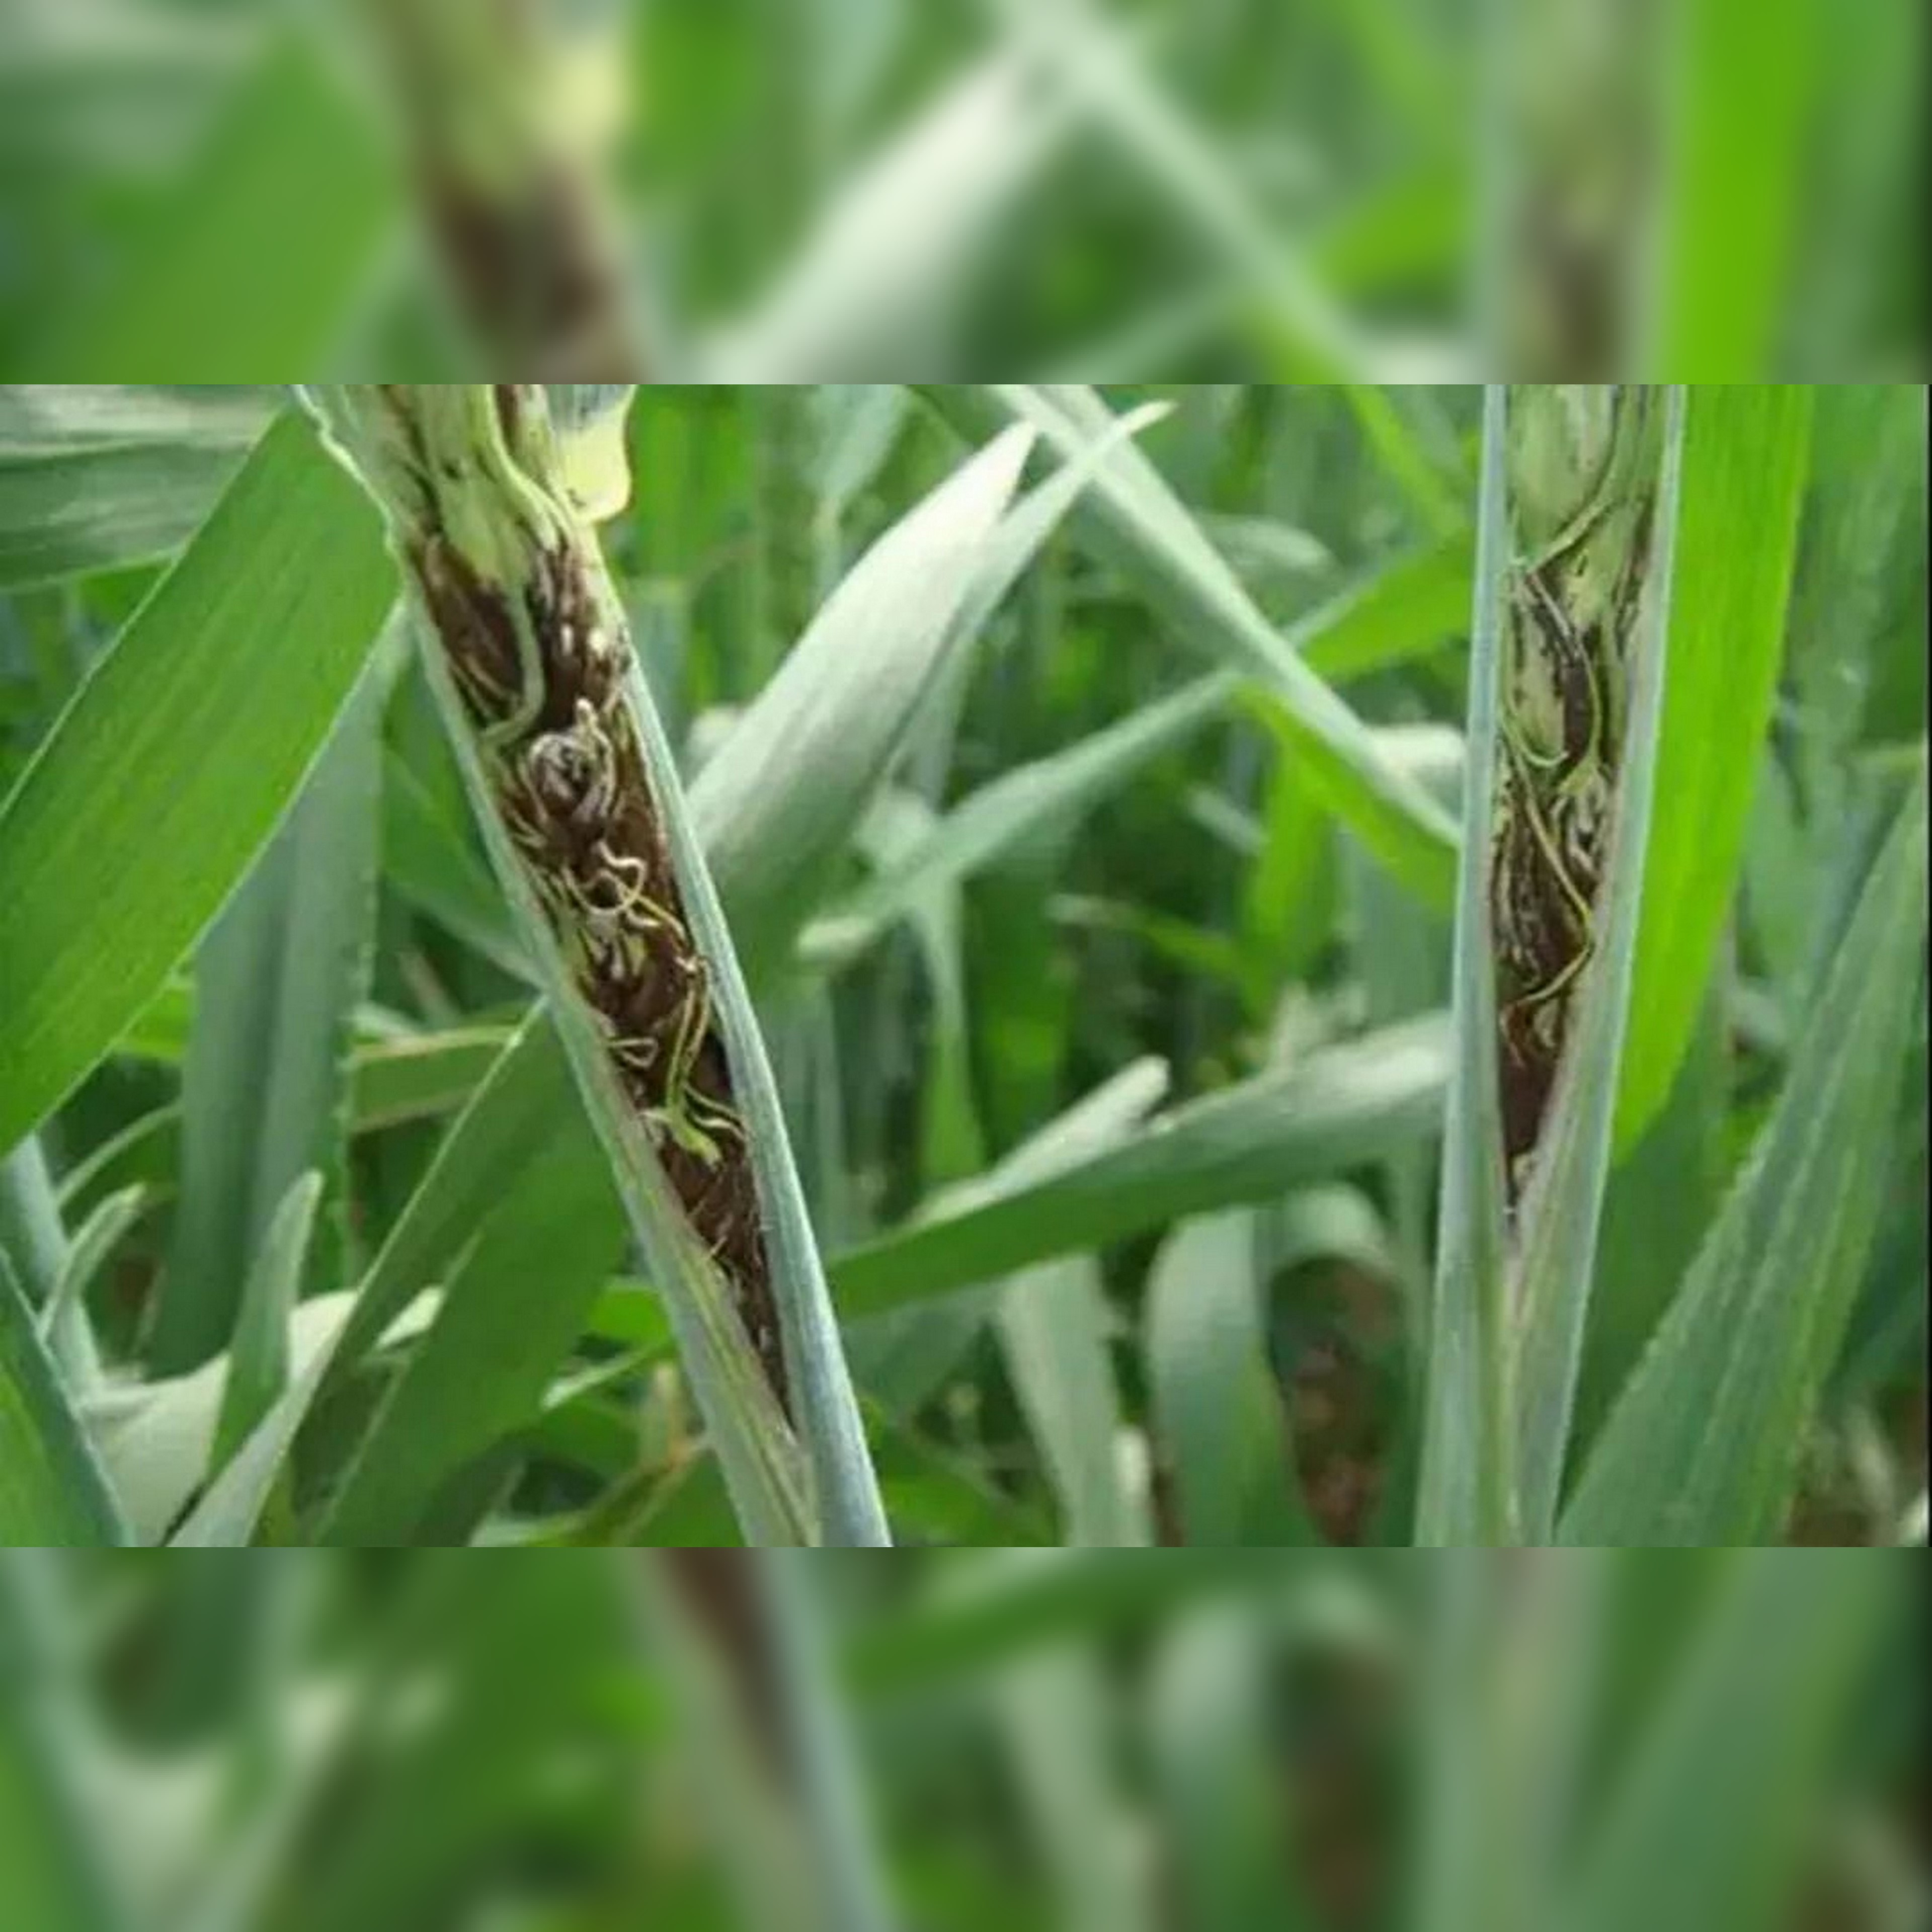Wheat Loose Smut: (382, 510, 948, 1373)
